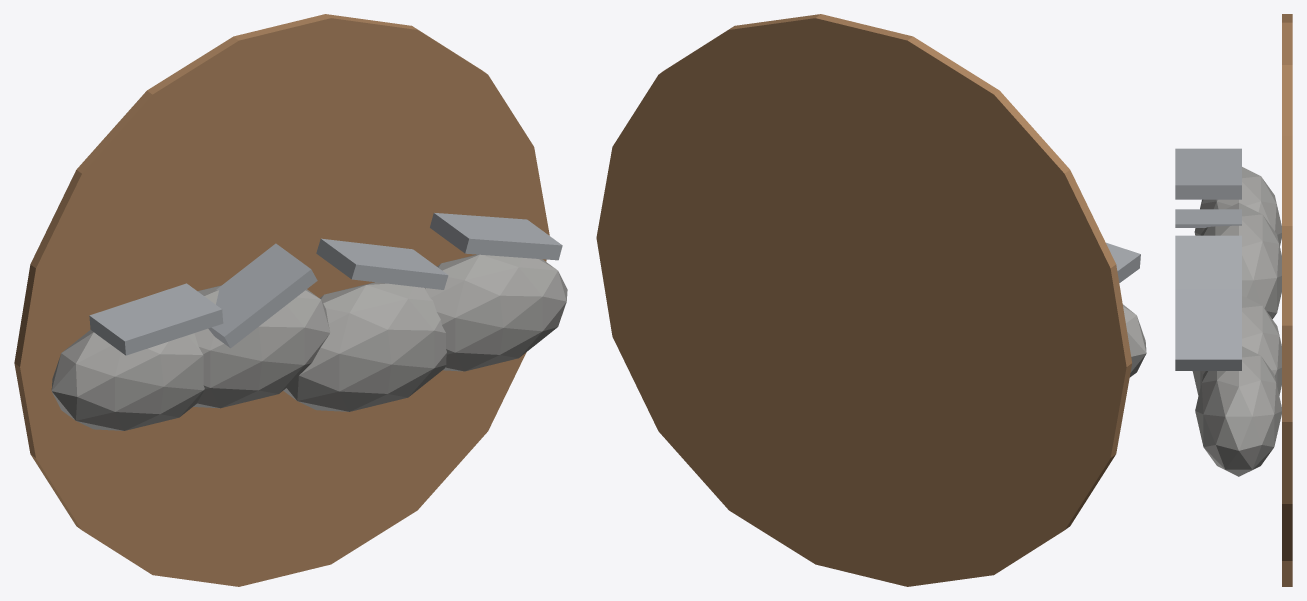
File: 02_local_prop_cluster.glb
The picture shows the model from 3 angles, left to right: view 1: azimuth 30°, elevation 25°; view 2: azimuth 150°, elevation 25°; view 3: azimuth 270°, elevation 25°; orthographic projection. The views are drawn at different scales.
Parts seen in each view (by area): view 1: scatter_base, scrap_rock_2, scrap_rock_3, scrap_rock_0, scrap_rock_1, scrap_plate_0, scrap_plate_1, scrap_plate_3, scrap_plate_2; view 2: scatter_base, scrap_rock_0, scrap_plate_0; view 3: scrap_rock_3, scatter_base, scrap_plate_3, scrap_rock_1, scrap_plate_2, scrap_plate_0, scrap_rock_2, scrap_rock_0, scrap_plate_1.
Part boxes in pixels (x1,y1,x2,y2): scatter_base: [14, 14, 549, 586]; scrap_rock_2: [283, 282, 446, 411]; scrap_rock_3: [425, 254, 567, 371]; scrap_rock_0: [51, 330, 204, 430]; scrap_rock_1: [193, 285, 330, 408]; scrap_plate_0: [89, 283, 223, 355]; scrap_plate_1: [208, 243, 317, 348]; scrap_plate_3: [430, 213, 562, 260]; scrap_plate_2: [316, 238, 448, 289]; scatter_base: [596, 14, 1132, 586]; scrap_rock_0: [1122, 304, 1146, 377]; scrap_plate_0: [1106, 242, 1140, 282]; scrap_rock_3: [1195, 346, 1281, 476]; scatter_base: [1282, 14, 1292, 586]; scrap_plate_3: [1175, 289, 1241, 370]; scrap_rock_1: [1200, 203, 1281, 318]; scrap_plate_2: [1175, 235, 1241, 288]; scrap_plate_0: [1175, 148, 1241, 199]; scrap_rock_2: [1192, 296, 1281, 395]; scrap_rock_0: [1194, 167, 1281, 246]; scrap_plate_1: [1175, 209, 1241, 227].
Bounding box in the file's own units: 1.9 × 1.87 × 0.3875.
